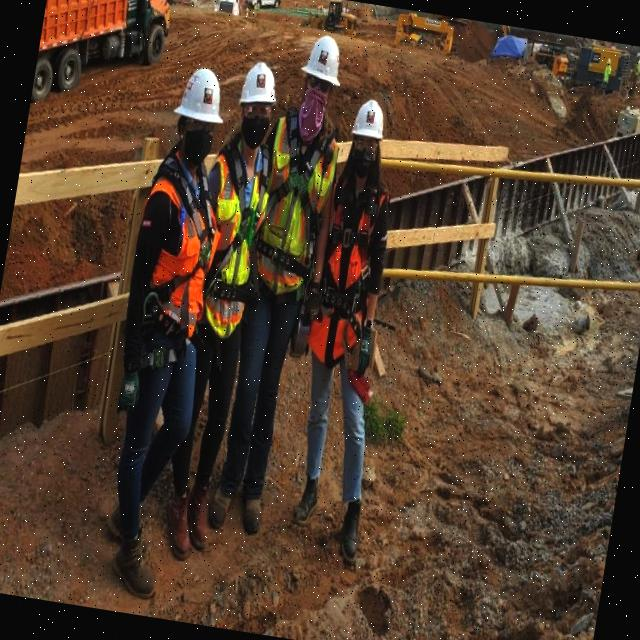boots: (108, 527, 162, 604), (156, 477, 201, 561), (333, 495, 367, 565), (182, 482, 212, 552), (208, 466, 238, 530), (288, 475, 322, 529), (237, 496, 266, 536)
